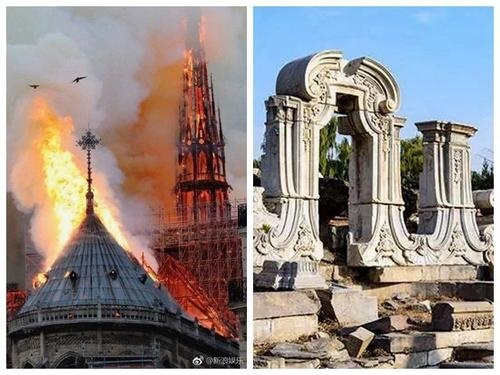fire: (34, 99, 89, 272)
